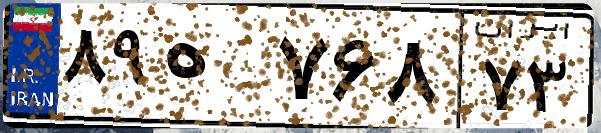3: (525, 38, 570, 115)
6: (330, 28, 385, 110)
7: (270, 28, 330, 110), (475, 38, 525, 113)
8: (385, 28, 445, 110), (57, 26, 110, 100)
9: (110, 28, 158, 98)
ه: (158, 20, 270, 120)
